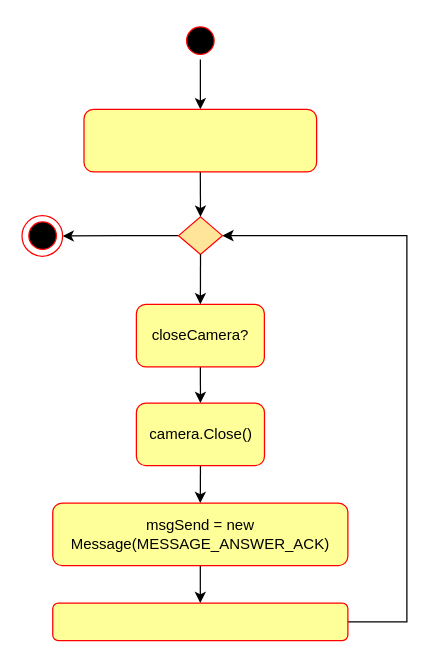
Some shapes in this 439 by 663 pixel diagram are drawn without their labels. Each missing label, with the centre of its shape:
"monitor.read(STOP_CAMERA)" goes at [200,140].
"WriteInQueue(&queue, msgSend)" goes at [200,621].
